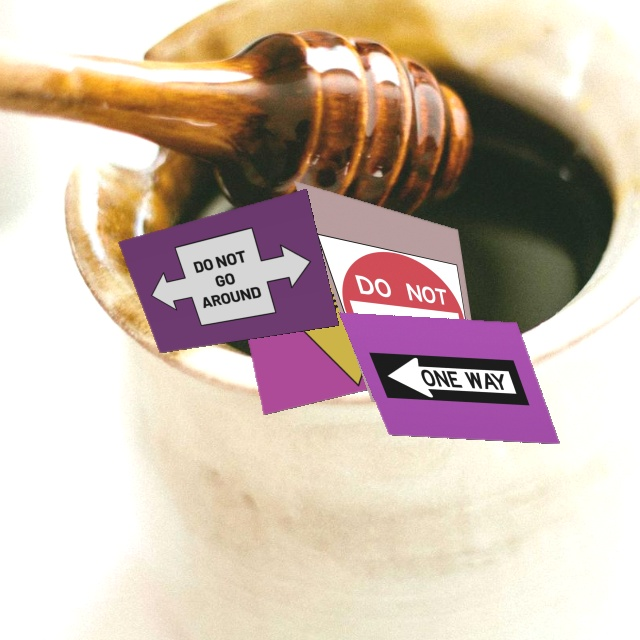DO_NOT_ENTER: (317, 229, 479, 376)
DO_NOT_GO_AROUND: (135, 214, 321, 340)
ONE_WAY_ left: (369, 344, 529, 413)
YIELD: (263, 245, 436, 406)
